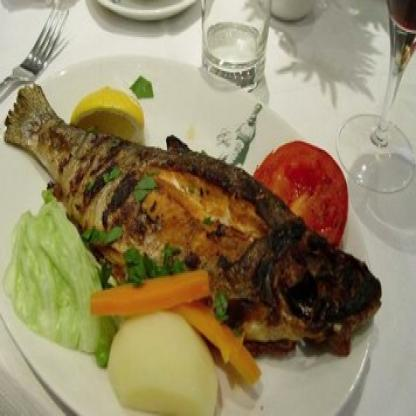Peixe: (0, 84, 401, 400)
